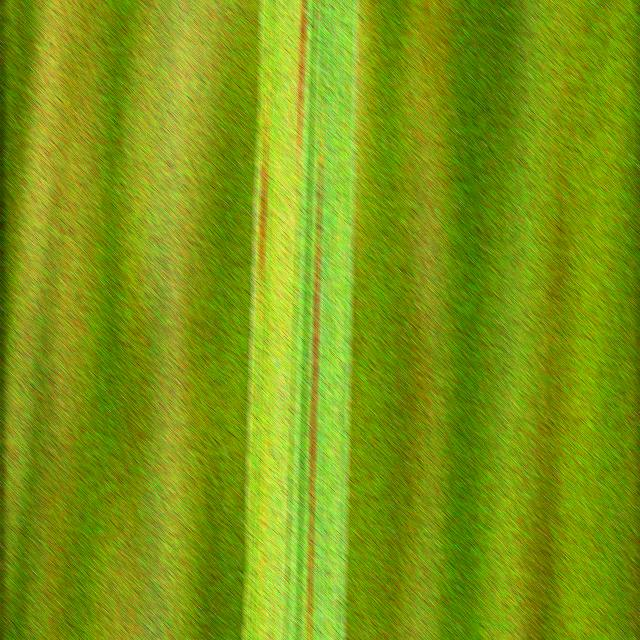NBS: (307, 134, 322, 640), (296, 0, 307, 173), (260, 110, 268, 295)
